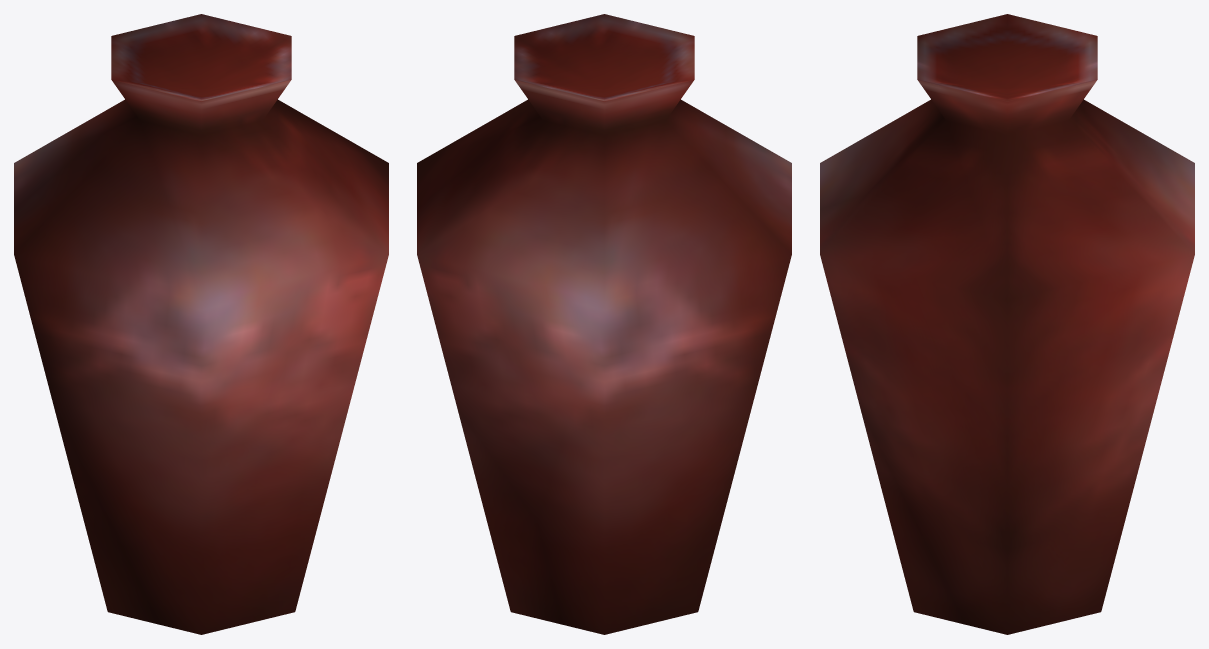
Rendered from F_pingzi006.fbx.
3 renders of one model, left to right at view 1: azimuth 30°, elevation 25°; view 2: azimuth 150°, elevation 25°; view 3: azimuth 270°, elevation 25°, orthographic.
Parts seen in each view (by area): view 1: F_pingzi006; view 2: F_pingzi006; view 3: F_pingzi006.
Boxes of the visible parts, x1,y1,x2,y2 form: F_pingzi006: [14, 14, 388, 634]; F_pingzi006: [417, 14, 791, 634]; F_pingzi006: [820, 14, 1194, 634].
Size of the model in its own units: 20.87 by 28.26 by 18.07.
